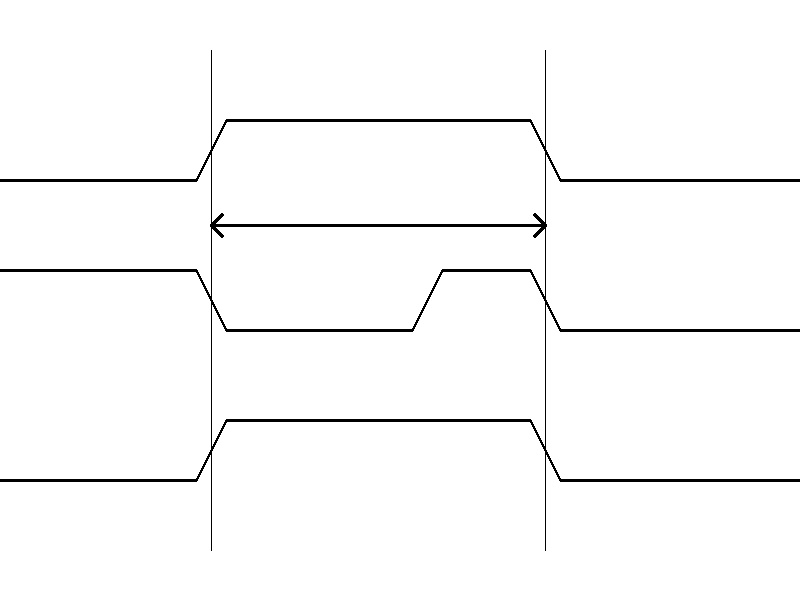double_arrow: (211, 210, 545, 240)
